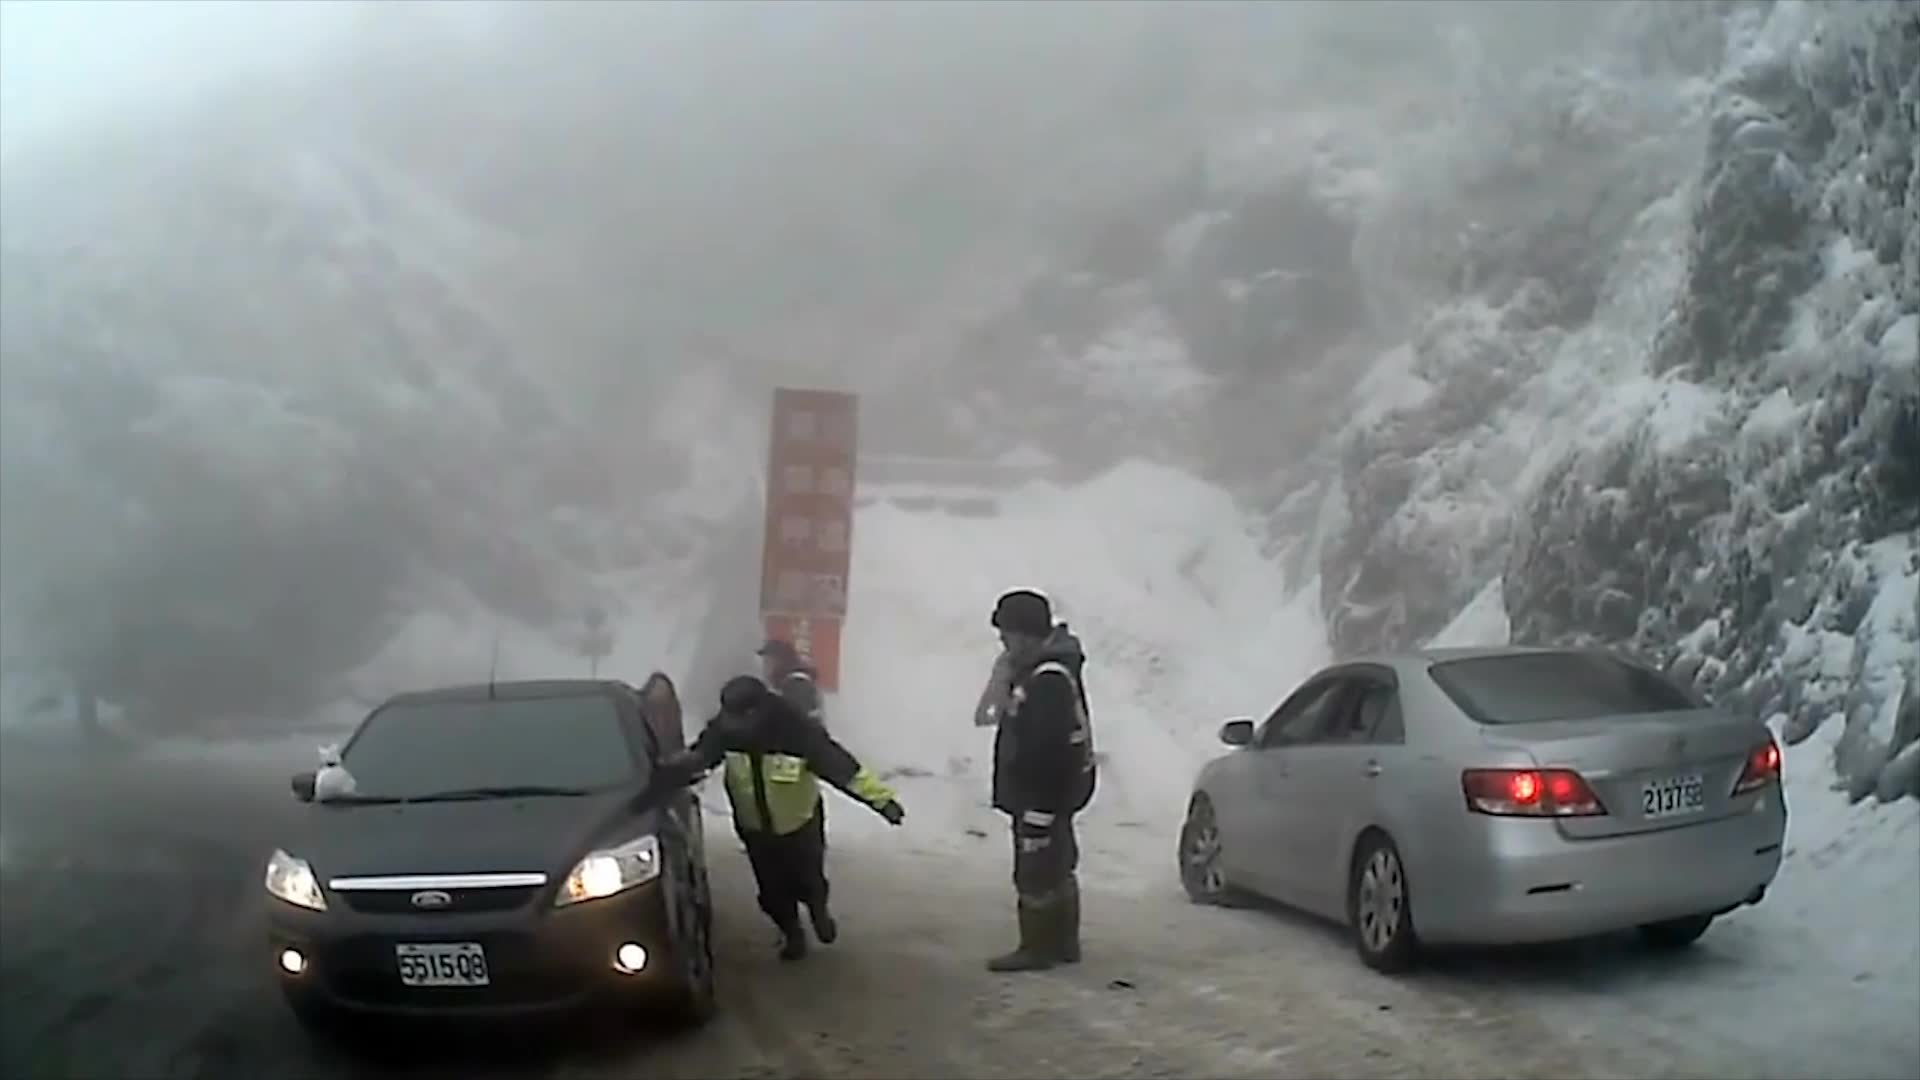pedestrian: (686, 675, 900, 973), (966, 590, 1095, 975), (752, 631, 827, 864), (975, 617, 1059, 803)
vehicle: (1175, 644, 1786, 972), (260, 677, 716, 1030)
